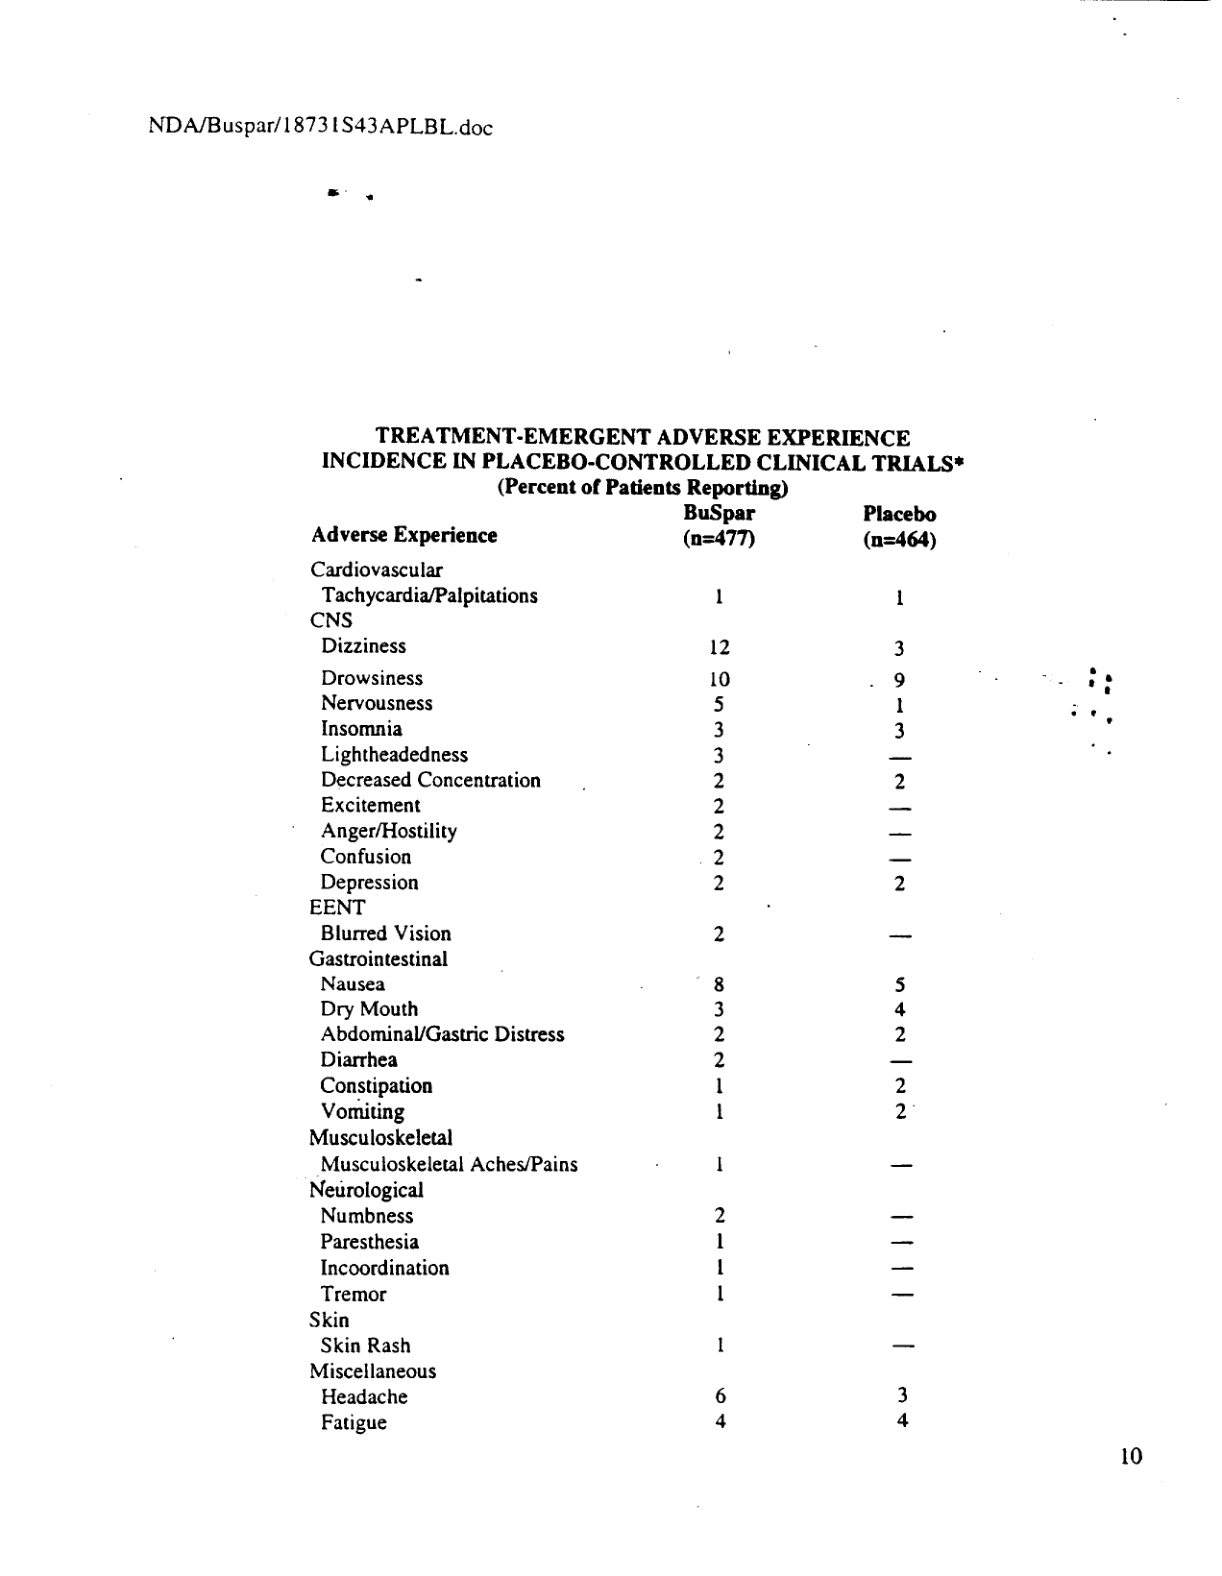nolines: (310, 499, 940, 1437)
